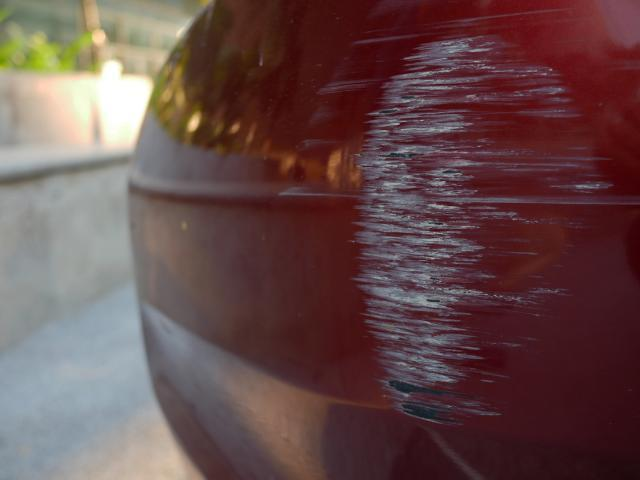scratch: (280, 4, 620, 429)
